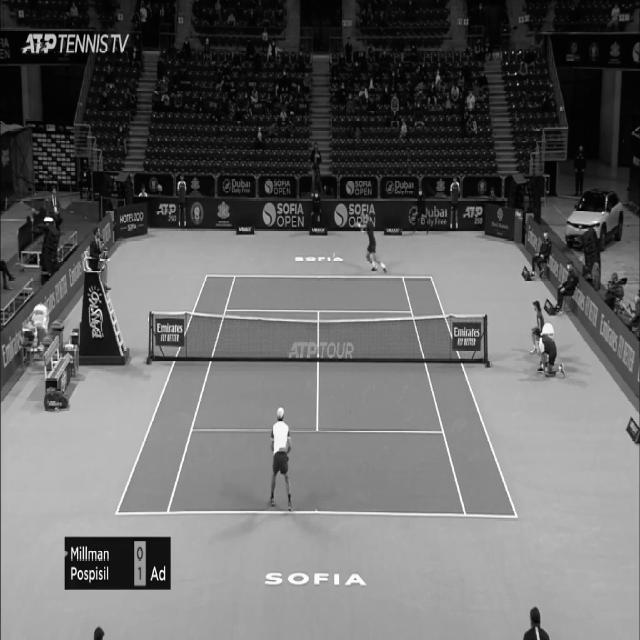tennis-court: (115, 275, 519, 518)
